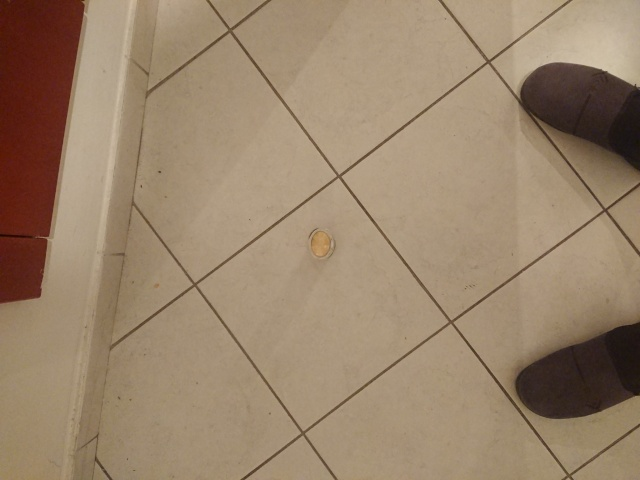Kotanyi Garlic Granules 70g: (307, 226, 338, 261)
